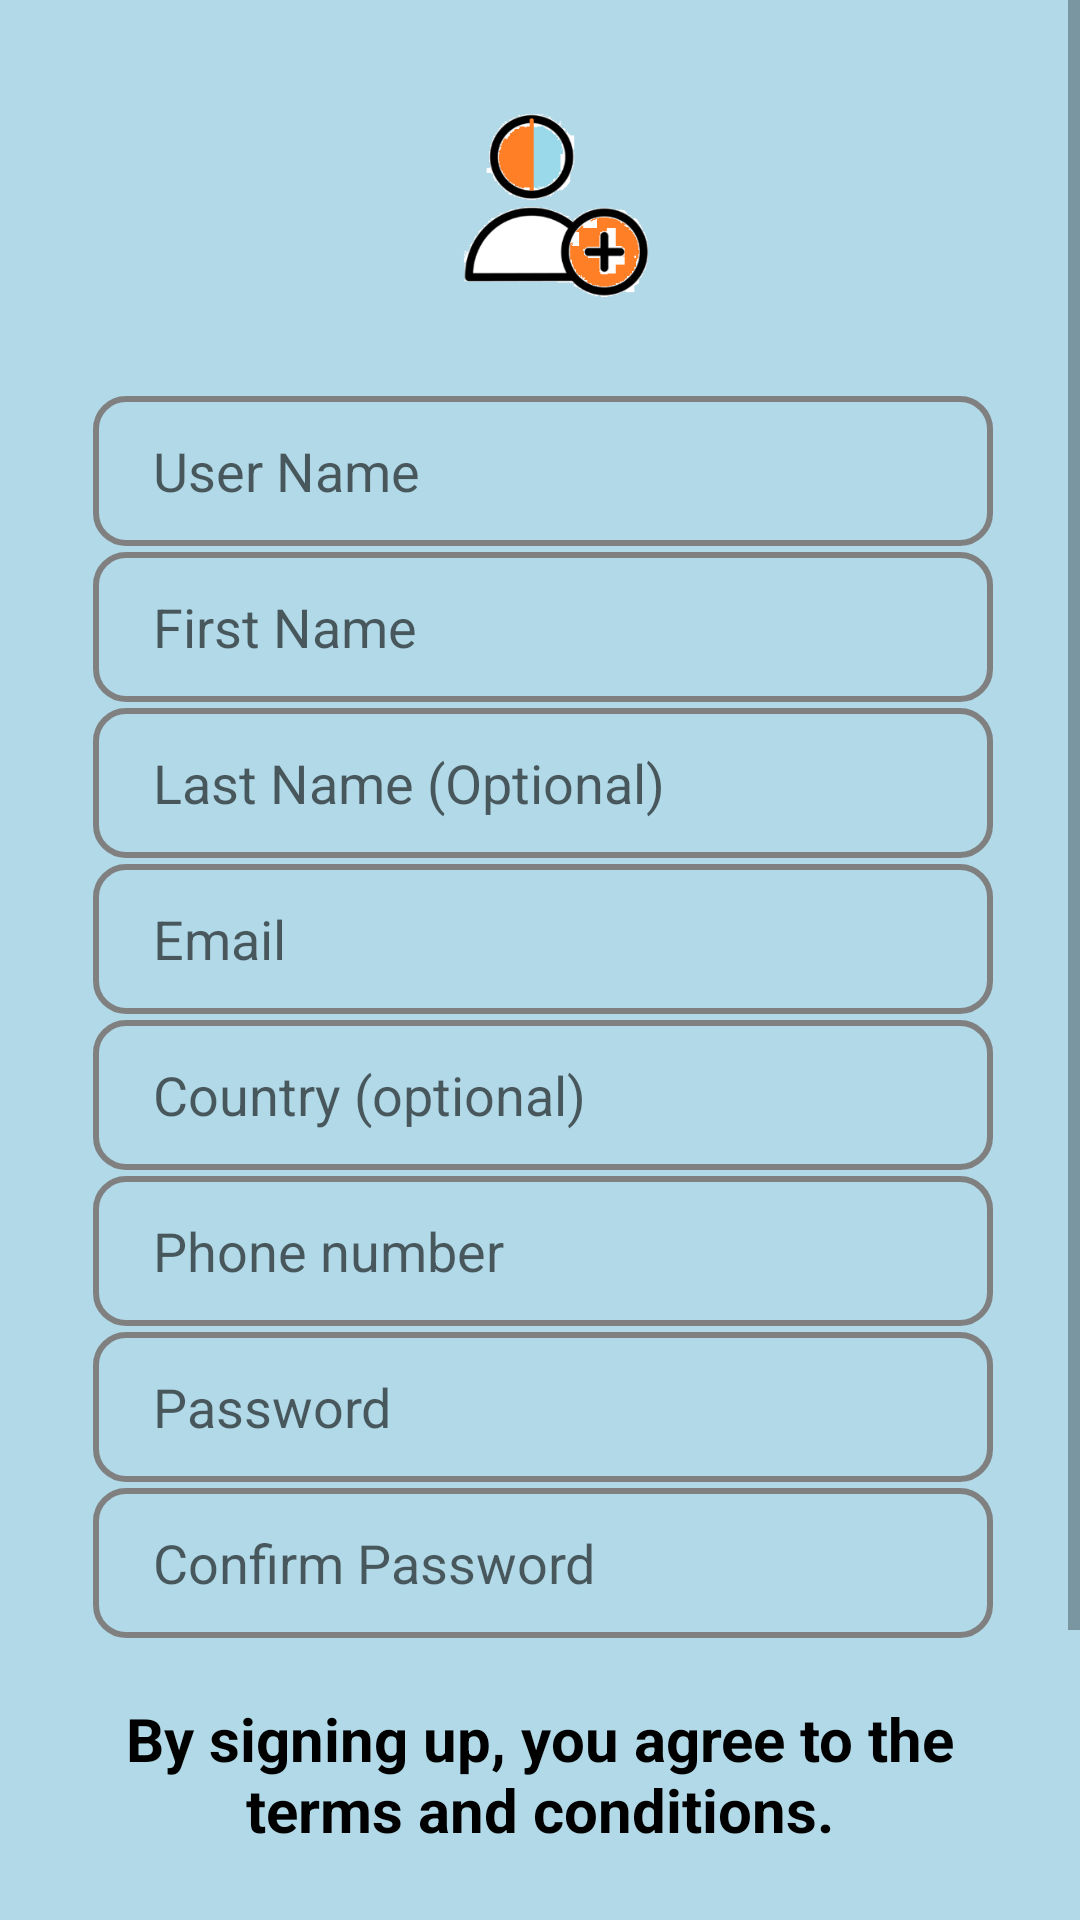

Named icons in this screenshot (1080×1920) and their bounding boxes, box=[x1, y1, x2, y2]:
createaccount: box=[464, 114, 648, 297]
